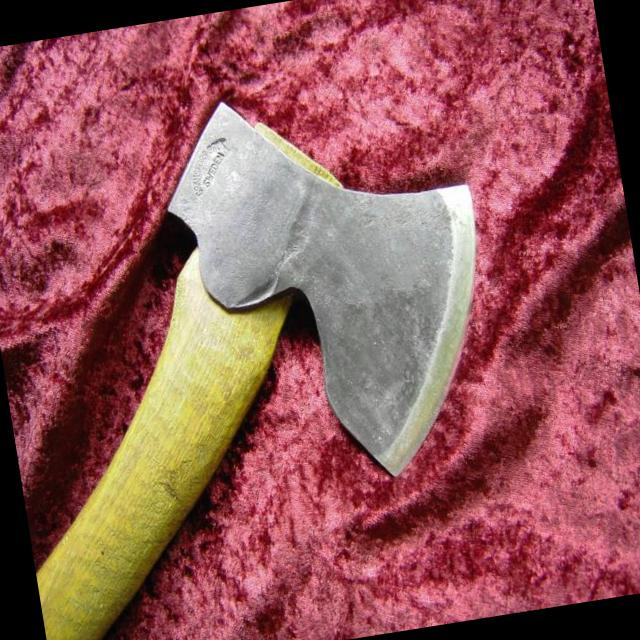Axe: (36, 104, 476, 640)
